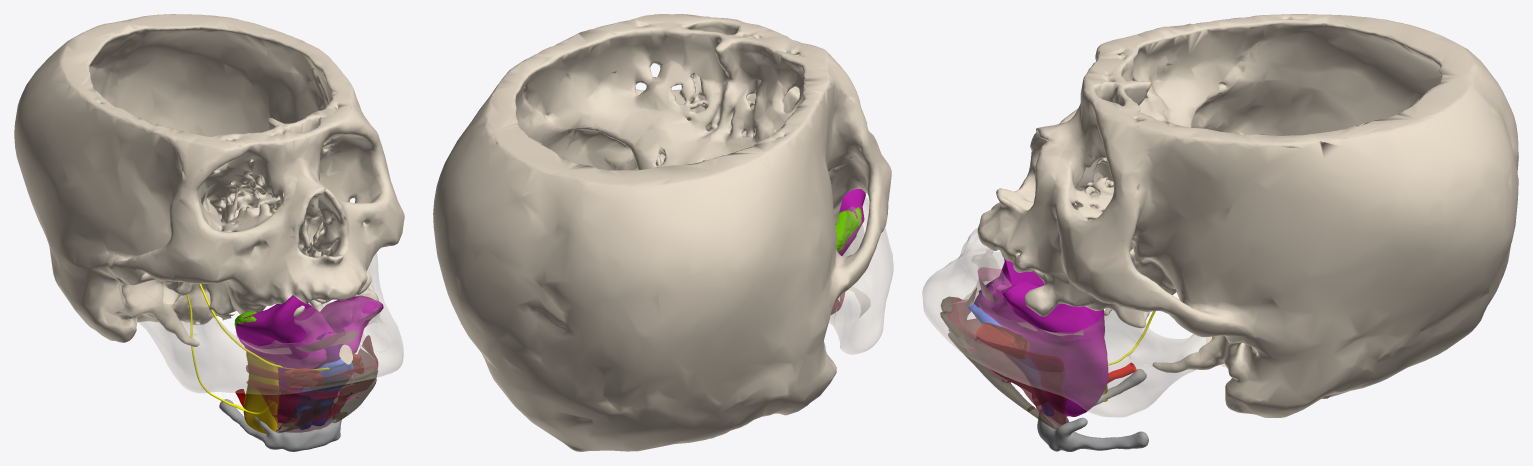
The model's file is step04.glb.
The picture shows the model from 3 angles, left to right: view 1: azimuth 30°, elevation 25°; view 2: azimuth 150°, elevation 25°; view 3: azimuth 270°, elevation 25°; orthographic projection. The views are drawn at different scales.
Visible parts, largest first — view 1: 骨全体 下顎骨除く, 下顎骨, step01, step03, step05, 舌骨, step04, step02_口腔底粘膜; view 2: 骨全体 下顎骨除く, 下顎骨, Ca, step01; view 3: 骨全体 下顎骨除く, 下顎骨, step01, step03, 舌骨, step04, step006, step02_口腔底粘膜.
Part boxes in pixels (left/top/right/bottom): 骨全体 下顎骨除く: left=14, top=14, right=404, bottom=346; 下顎骨: left=118, top=253, right=403, bottom=394; step01: left=236, top=295, right=383, bottom=422; step03: left=246, top=335, right=378, bottom=433; step05: left=186, top=284, right=329, bottom=434; 舌骨: left=219, top=399, right=341, bottom=451; step04: left=296, top=332, right=353, bottom=429; step02_口腔底粘膜: left=236, top=330, right=358, bottom=354; 骨全体 下顎骨除く: left=433, top=14, right=891, bottom=451; 下顎骨: left=829, top=196, right=893, bottom=354; Ca: left=835, top=207, right=861, bottom=251; step01: left=838, top=189, right=865, bottom=255; 骨全体 下顎骨除く: left=977, top=14, right=1518, bottom=417; 下顎骨: left=922, top=228, right=1224, bottom=417; step01: left=978, top=258, right=1108, bottom=416; step03: left=940, top=296, right=1068, bottom=428; 舌骨: left=1037, top=369, right=1148, bottom=451; step04: left=965, top=275, right=1053, bottom=416; step006: left=975, top=322, right=1029, bottom=358; step02_口腔底粘膜: left=977, top=267, right=1083, bottom=335.
Bounding box in the file's own units: 1.49 × 1.59 × 2.43.
